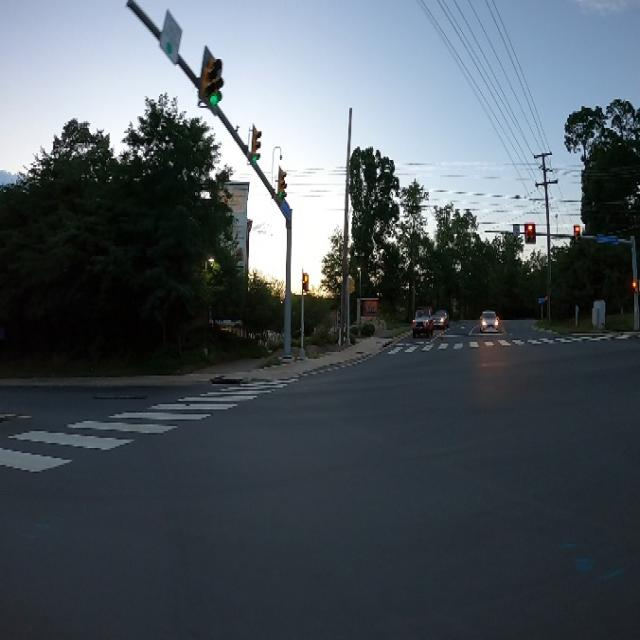Cars: (413, 308, 431, 336), (480, 311, 501, 333), (433, 311, 449, 331)
